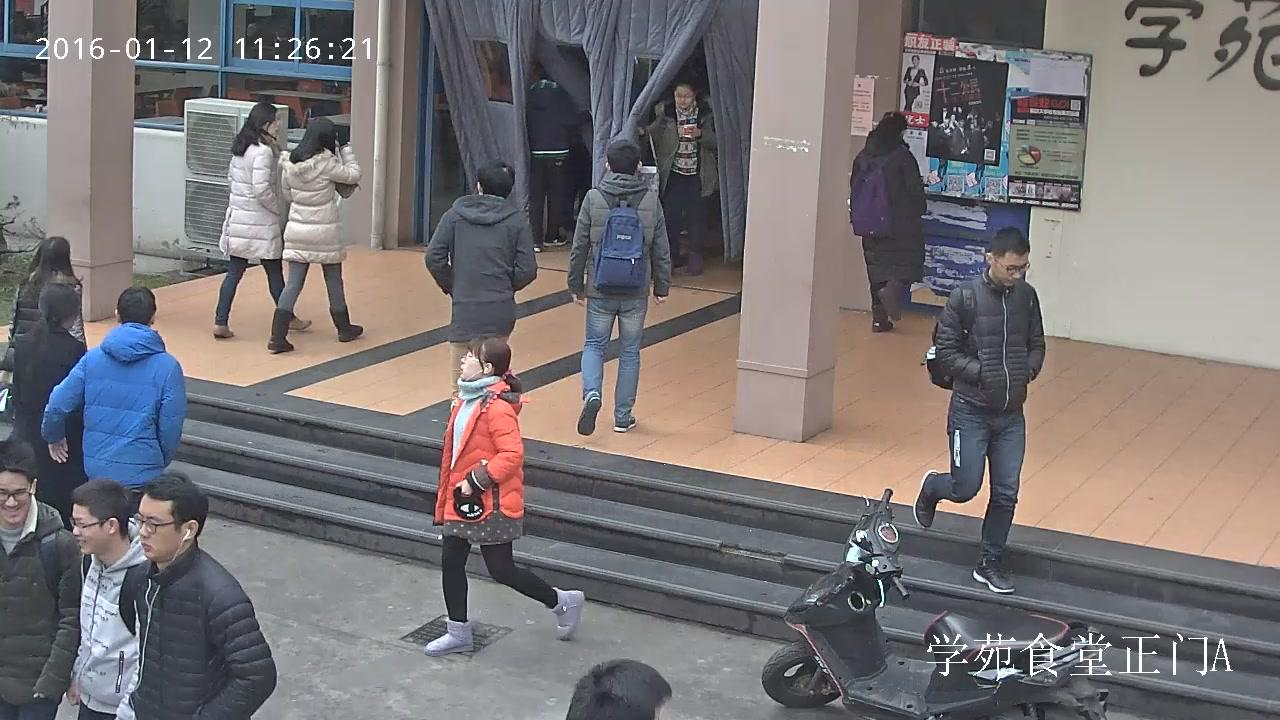person: (423, 335, 584, 656), (912, 225, 1044, 593), (114, 471, 277, 720), (566, 139, 670, 436), (41, 287, 186, 486), (424, 160, 537, 389), (213, 101, 311, 338), (0, 441, 83, 719), (268, 116, 362, 352), (67, 479, 148, 718), (849, 111, 926, 332), (11, 286, 90, 499), (0, 238, 84, 429), (643, 80, 717, 275), (526, 62, 591, 253), (902, 54, 927, 111)
